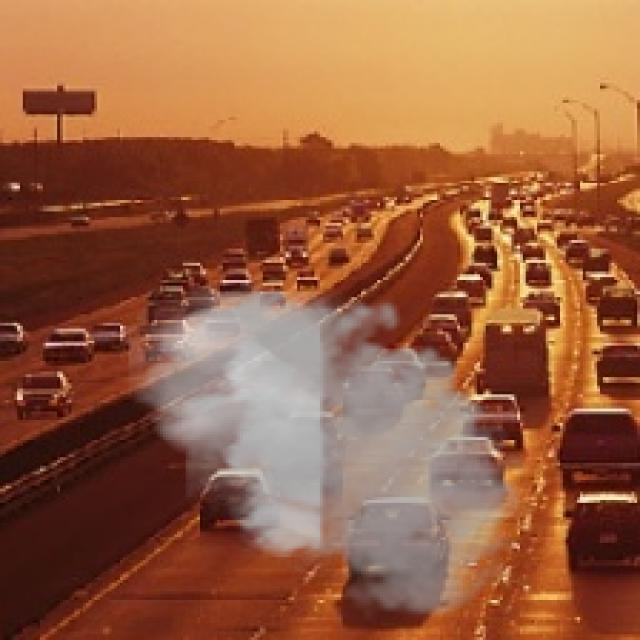smoke: (129, 277, 537, 623)
